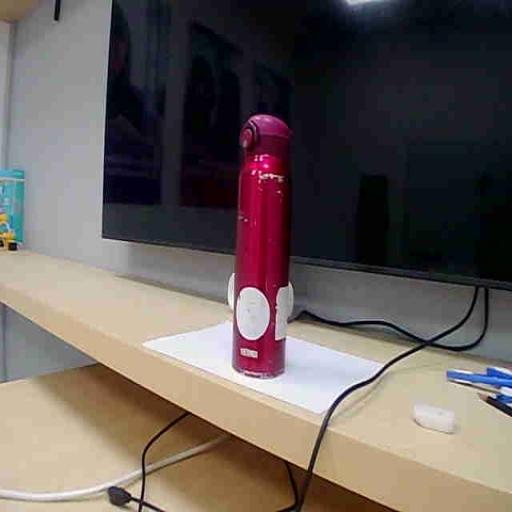bottle: (233, 116, 291, 377)
